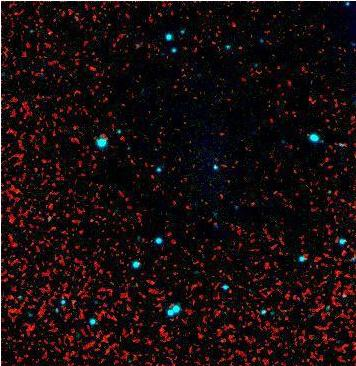star: (60, 288, 90, 318)
